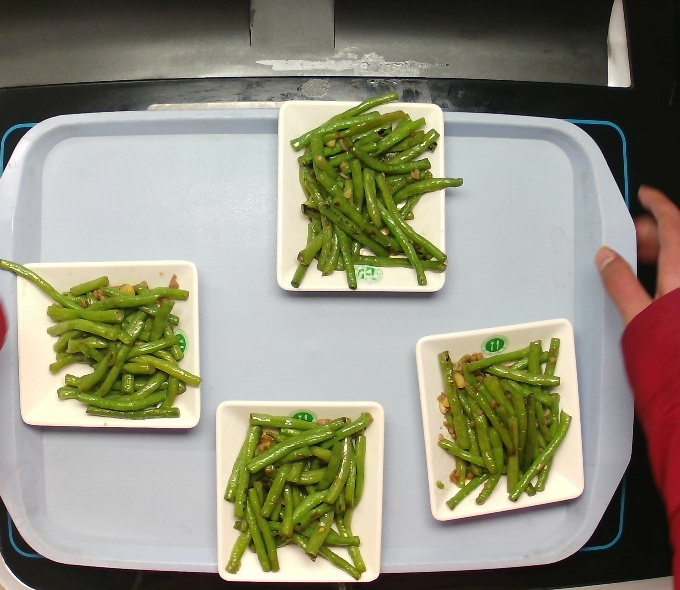wcq-RouMoJiangDou: (218, 397, 386, 588), (418, 326, 584, 519), (293, 111, 446, 287), (30, 270, 195, 423)
